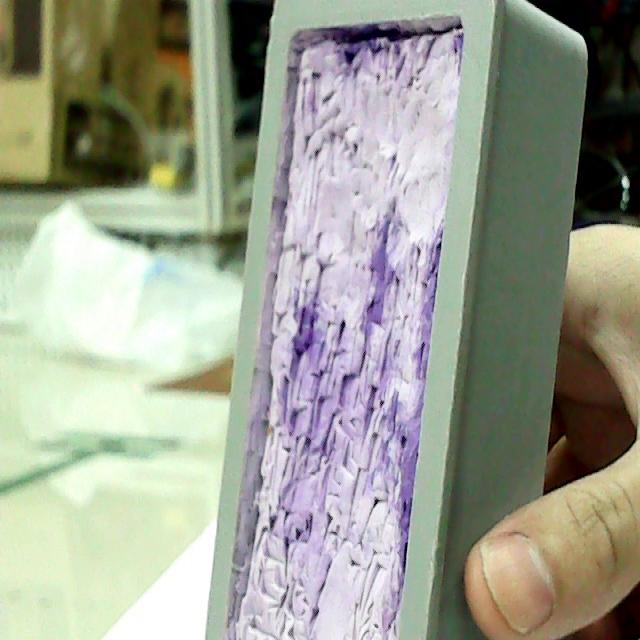block: (200, 0, 588, 636)
